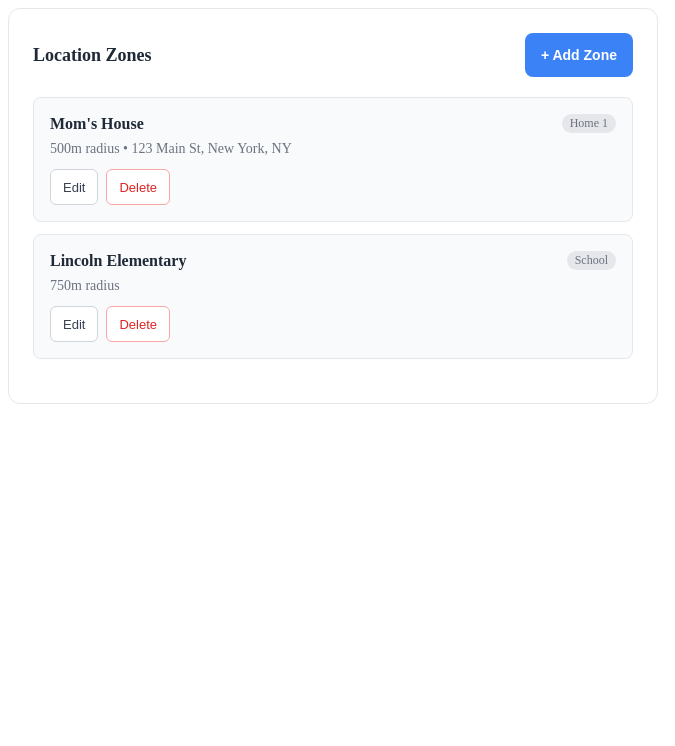
Test: LocationZoneEditor › Form Validation › enables save button when form is valid
This screenshot has width=675, height=746.
Click the button with test id "add-zone-button" at (579,55), box [525,33,633,77]
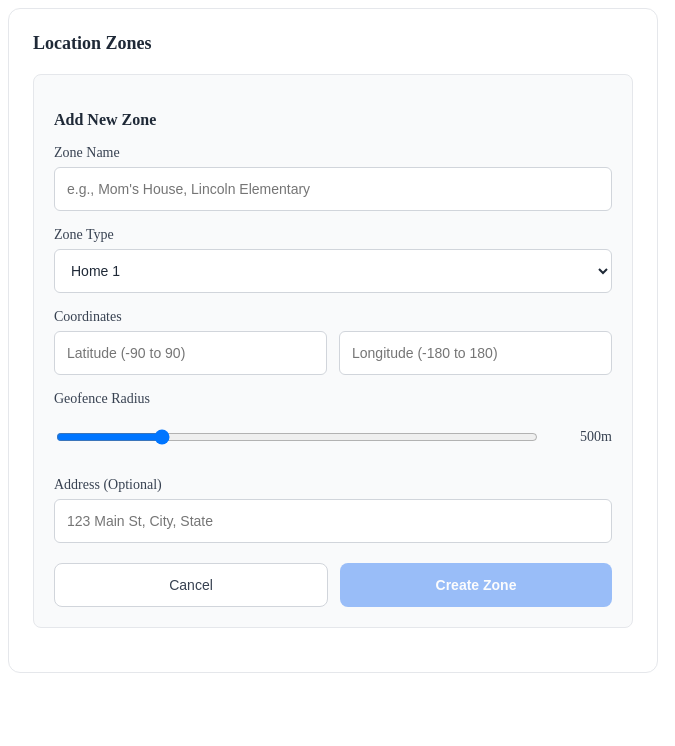
Type "Test Zone" into the field with test id "zone-name-input" at (333,189), box [54,167,612,211]
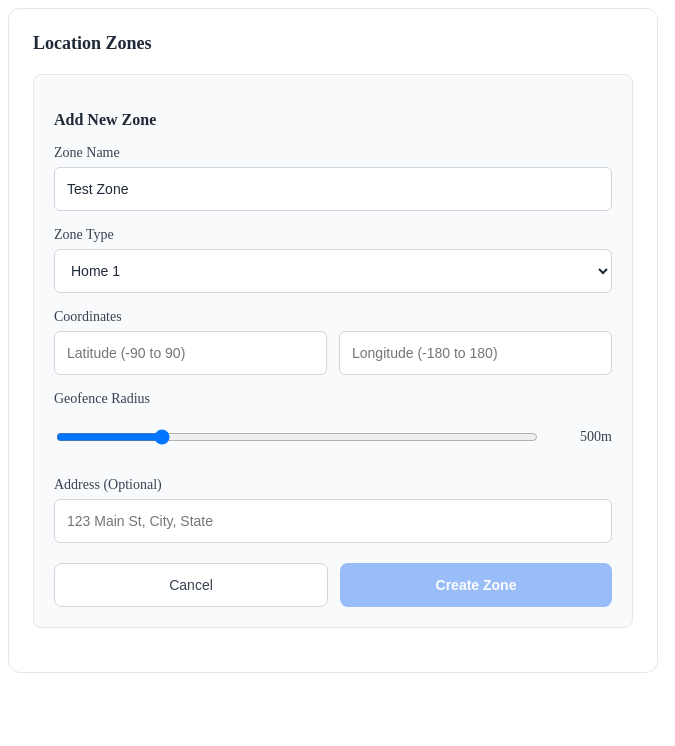
Type "40.7128" into the number field with test id "latitude-input" at (190,353), box [54,331,327,375]
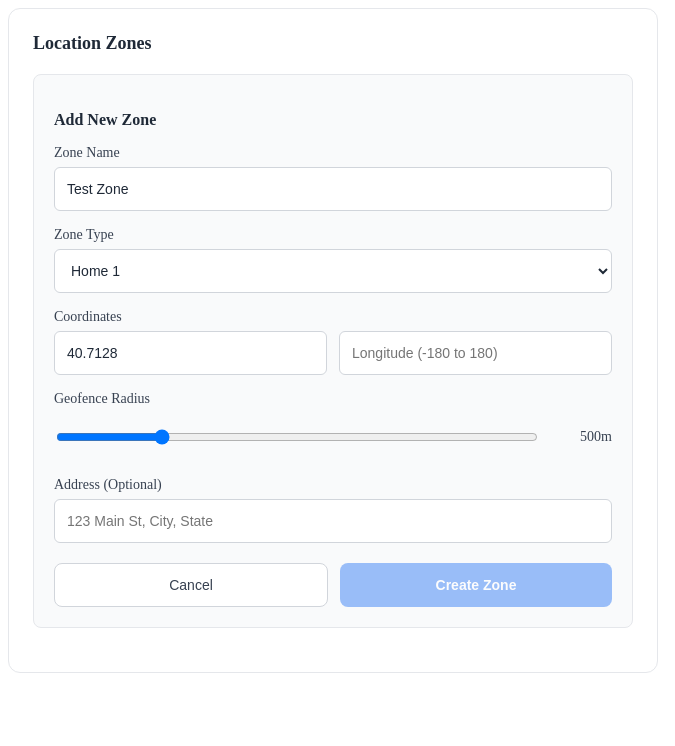
Type "-74.006" into the number field with test id "longitude-input" at (476,353), box [339,331,612,375]
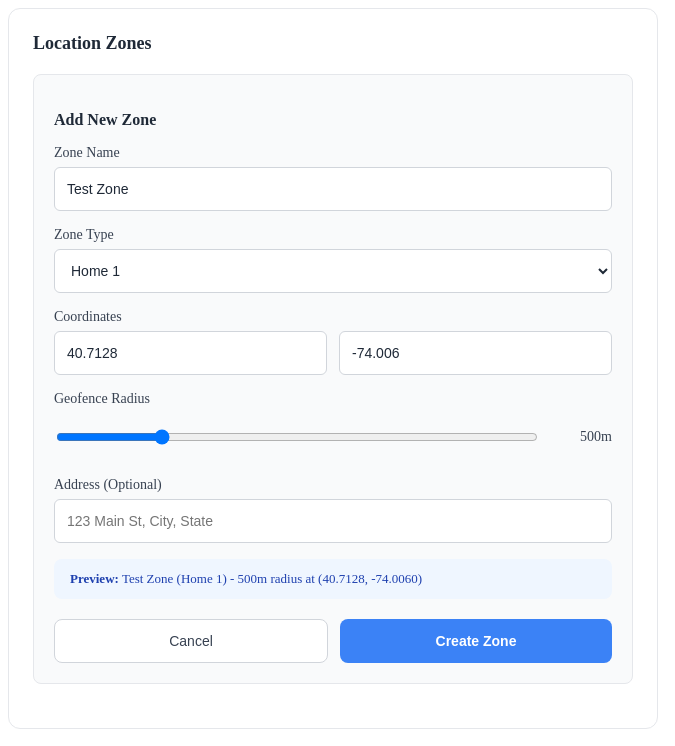
Result: the button with test id "save-button" is enabled at [340,619,612,663]
